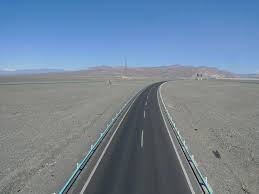strada: (47, 88, 208, 193)
